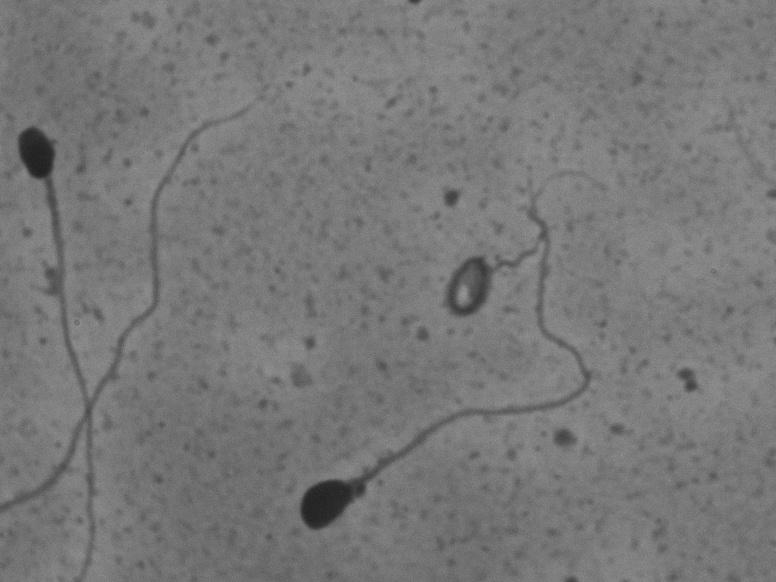Abnormal: (255, 130, 649, 552), (11, 89, 117, 566)
